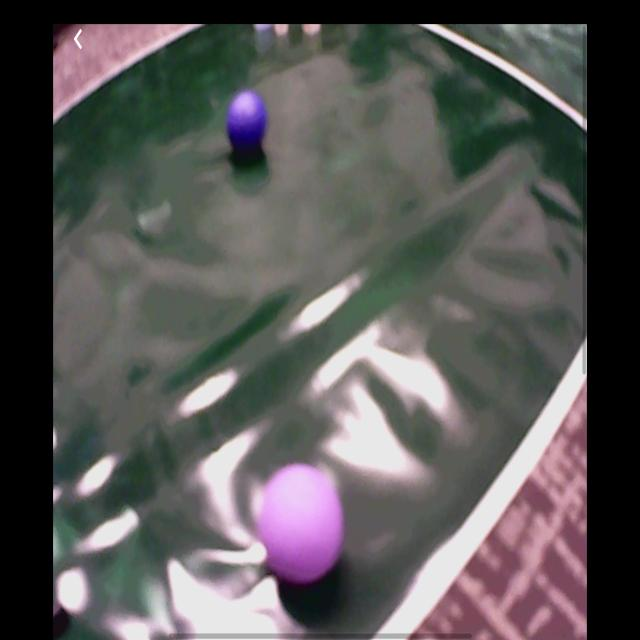ball: (261, 465, 346, 586), (227, 90, 267, 147)
